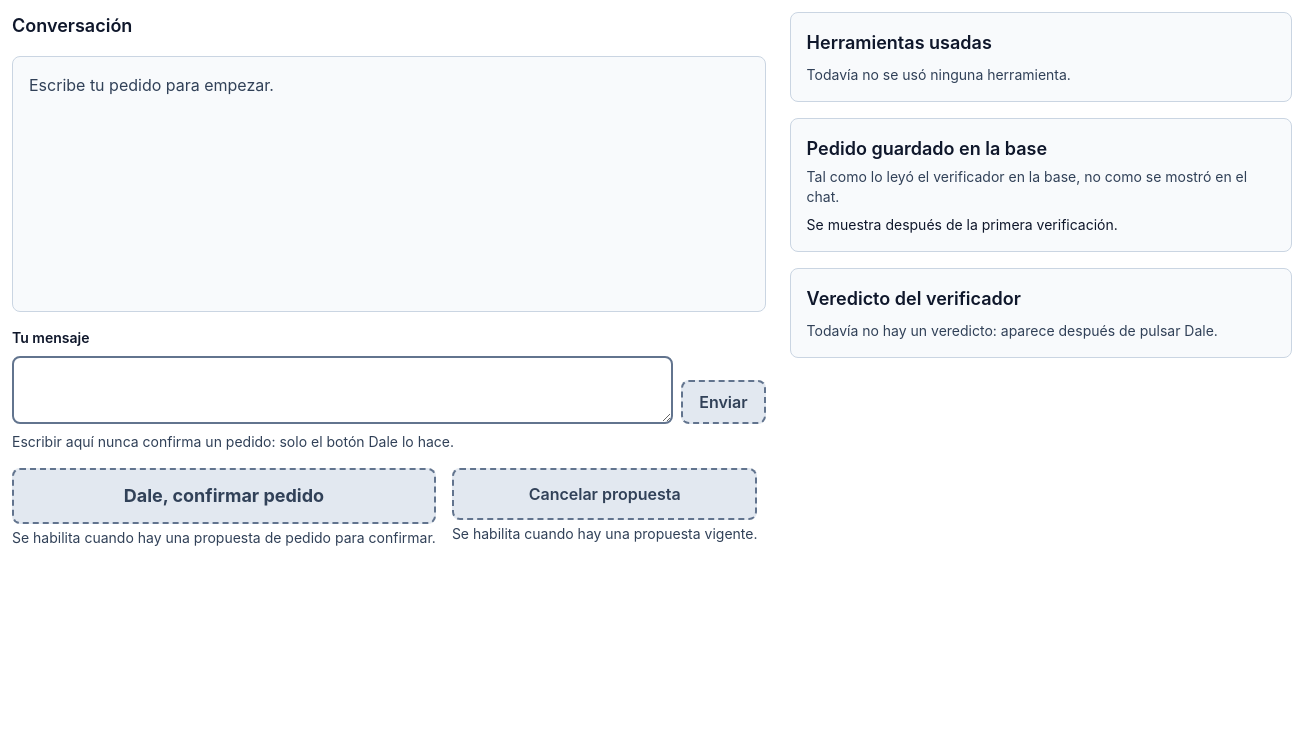
async states (S16.1) › words a network failure in Spanish itself
The width and height of the screenshot is (1292, 732).
Type "hola" into the text box labelled "Tu mensaje" at (343, 390), box [12, 356, 673, 424]
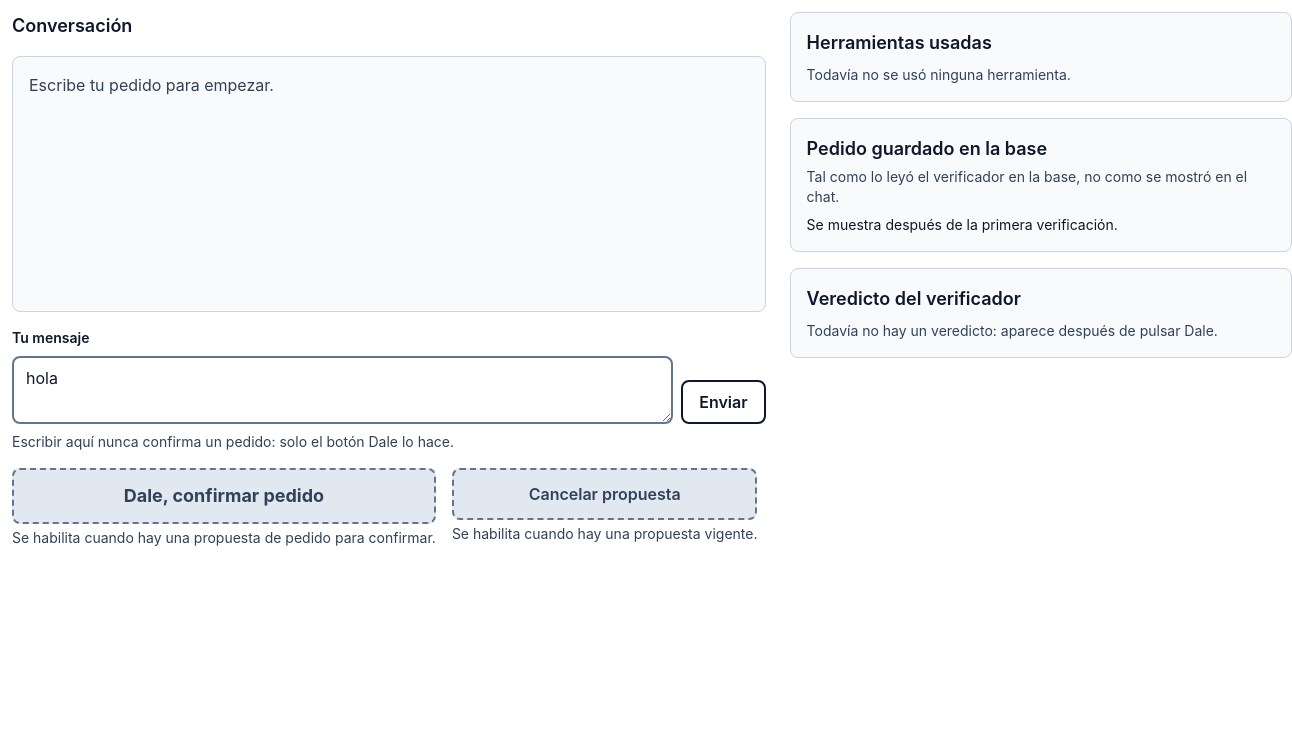
Click the button "Enviar" at (723, 402), box [681, 380, 766, 424]
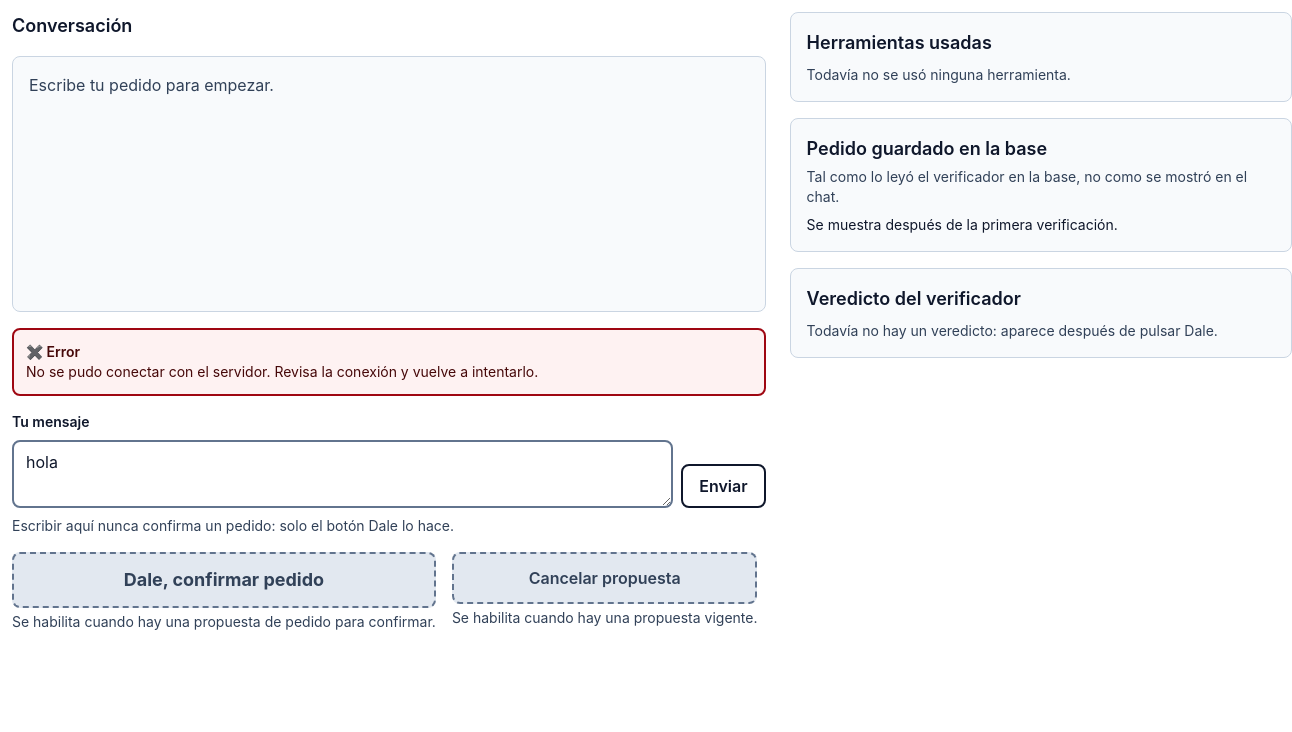
Now the message shows "No se pudo conectar con el servidor. Revisa la conexión y vuelve a intentarlo.", box [26, 363, 538, 380]
